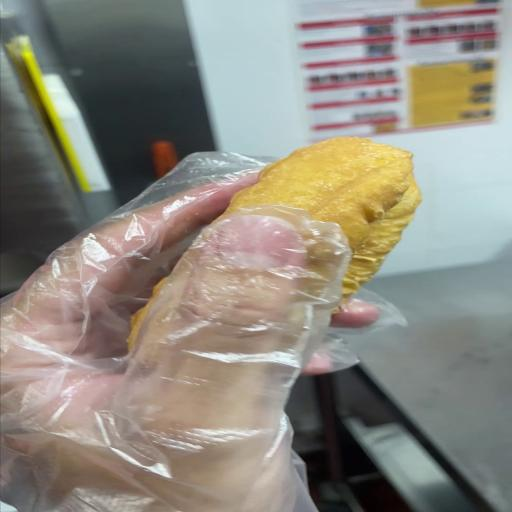brand_golden_good: (224, 137, 421, 299)
